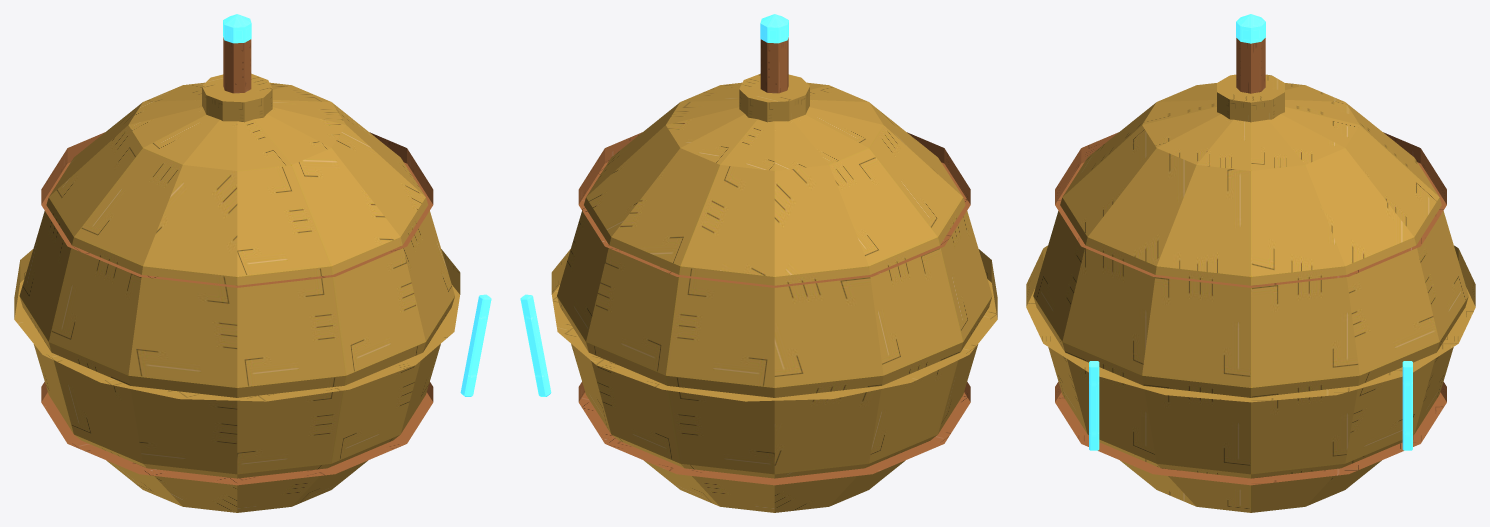
Rendered from storm.glb.
The picture shows the model from 3 angles, left to right: view 1: azimuth 30°, elevation 25°; view 2: azimuth 150°, elevation 25°; view 3: azimuth 270°, elevation 25°; orthographic projection.
Visible parts, largest first — view 1: body, fuse; view 2: body, fuse; view 3: body, fuse.
Boxes of the visible parts, <box> form: body: <box>14,73,491,512</box>; fuse: <box>223,14,251,93</box>; body: <box>520,73,997,512</box>; fuse: <box>760,14,788,93</box>; body: <box>1026,74,1475,512</box>; fuse: <box>1236,14,1265,93</box>.
Bounding box in the file's own units: 0.3406 × 0.4007 × 0.3406.
3 materials, 3 textured.
